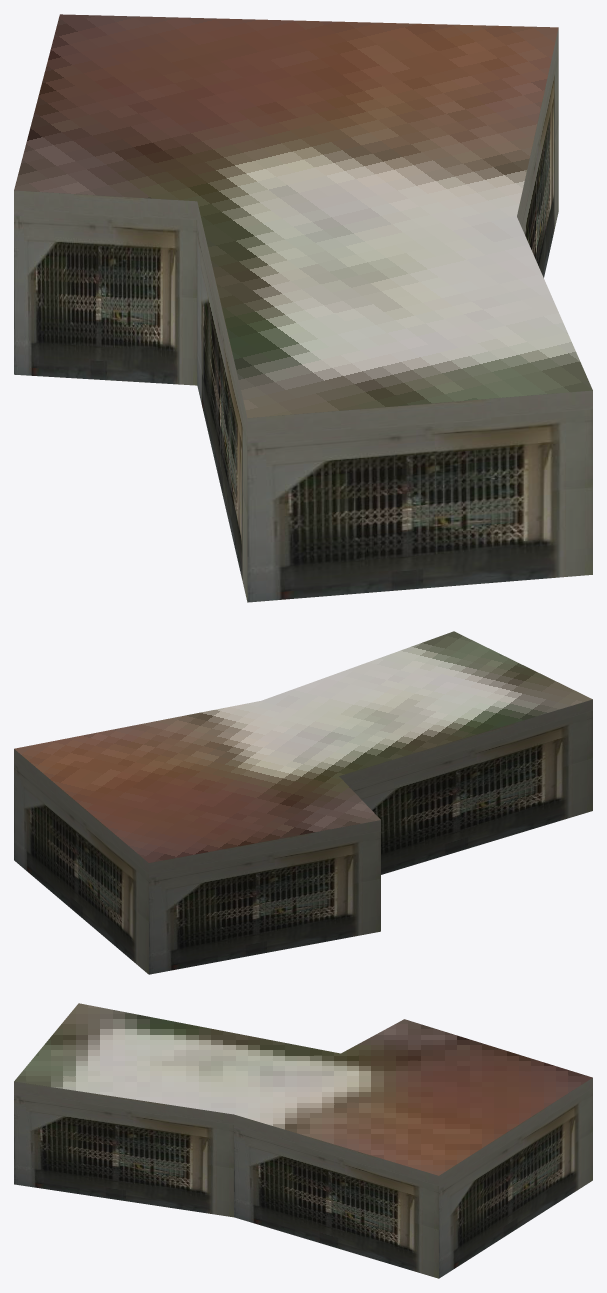
Rendered from T_1T1284NVSH.dae.
3 renders of one model, top to bottom at view 1: azimuth 30°, elevation 25°; view 2: azimuth 150°, elevation 25°; view 3: azimuth 270°, elevation 25°, orthographic. The views are drawn at different scales.
Parts seen in each view (by area): view 1: SketchUp (×5); view 2: SketchUp (×4); view 3: SketchUp (×4).
Part boxes in pixels (left/top/right/bottom): SketchUp (×5): left=14, top=14, right=592, bottom=602; SketchUp (×4): left=14, top=631, right=592, bottom=974; SketchUp (×4): left=14, top=1003, right=592, bottom=1278.
Bounding box in the file's own units: 8.46 × 11.99 × 2.35.
Materials: 2 (2 with a texture image).
